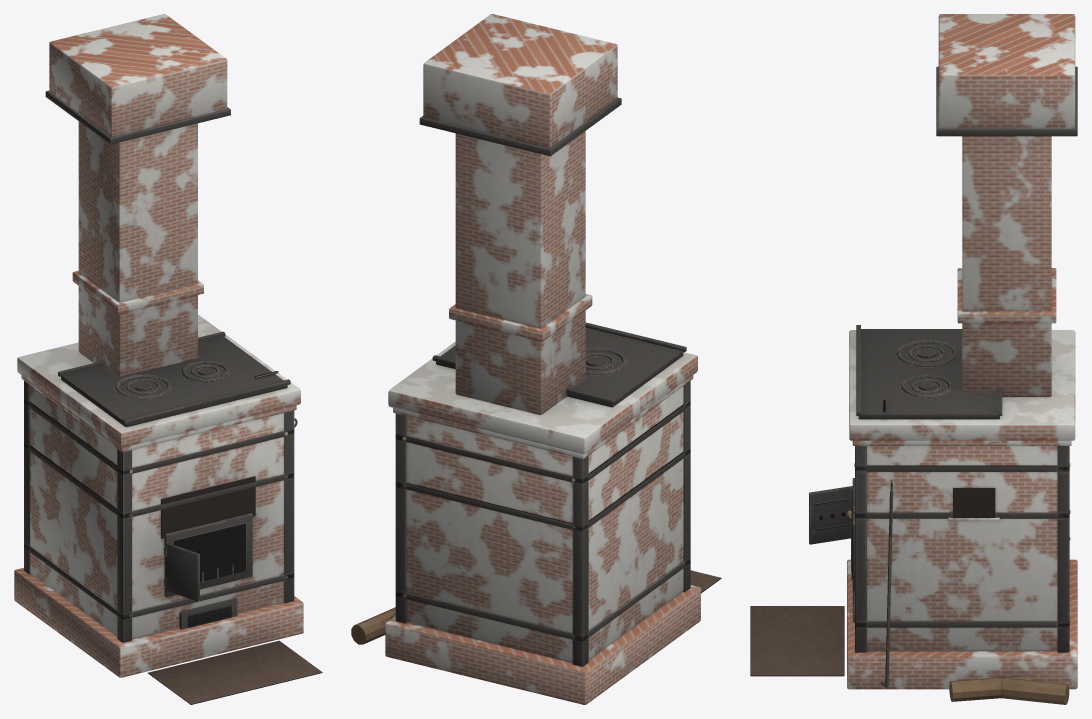
File: stove_brick.glb
The picture shows the model from 3 angles, left to right: view 1: azimuth 30°, elevation 25°; view 2: azimuth 150°, elevation 25°; view 3: azimuth 270°, elevation 25°; orthographic projection. The views are drawn at different scales.
Parts seen in each view (by area): view 1: stove_brick; view 2: stove_brick; view 3: stove_brick.
Boxes of the visible parts, <box> form: stove_brick: <box>14,14,322,704</box>; stove_brick: <box>351,14,721,704</box>; stove_brick: <box>750,14,1077,704</box>.
Bounding box in the file's own units: 1.17 × 2.8 × 1.39.
Materials: 1 (1 with a texture image).
